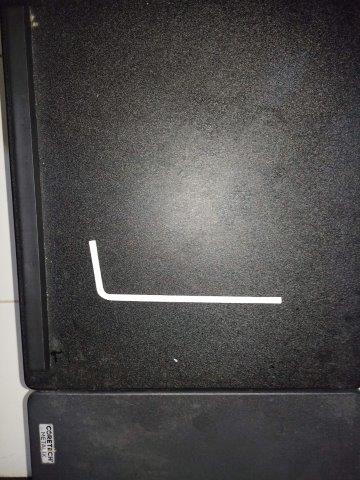sedotan: (89, 240, 281, 304)
